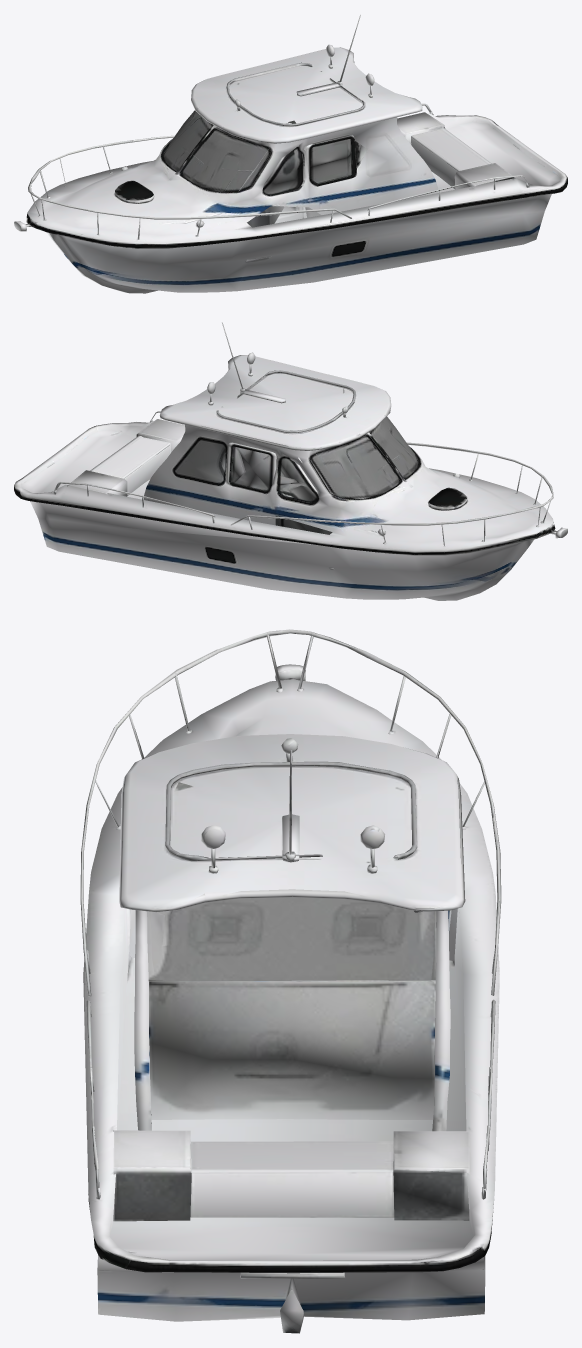
Rendered from meshy-coastal-boat.glb.
3 views of the same model, one above another, from view 1: azimuth 30°, elevation 25°; view 2: azimuth 150°, elevation 25°; view 3: azimuth 270°, elevation 25° (orthographic). The views are drawn at different scales.
Size of the model in its own units: 1 by 0.4287 by 0.3567.
1 material, 1 textured.
